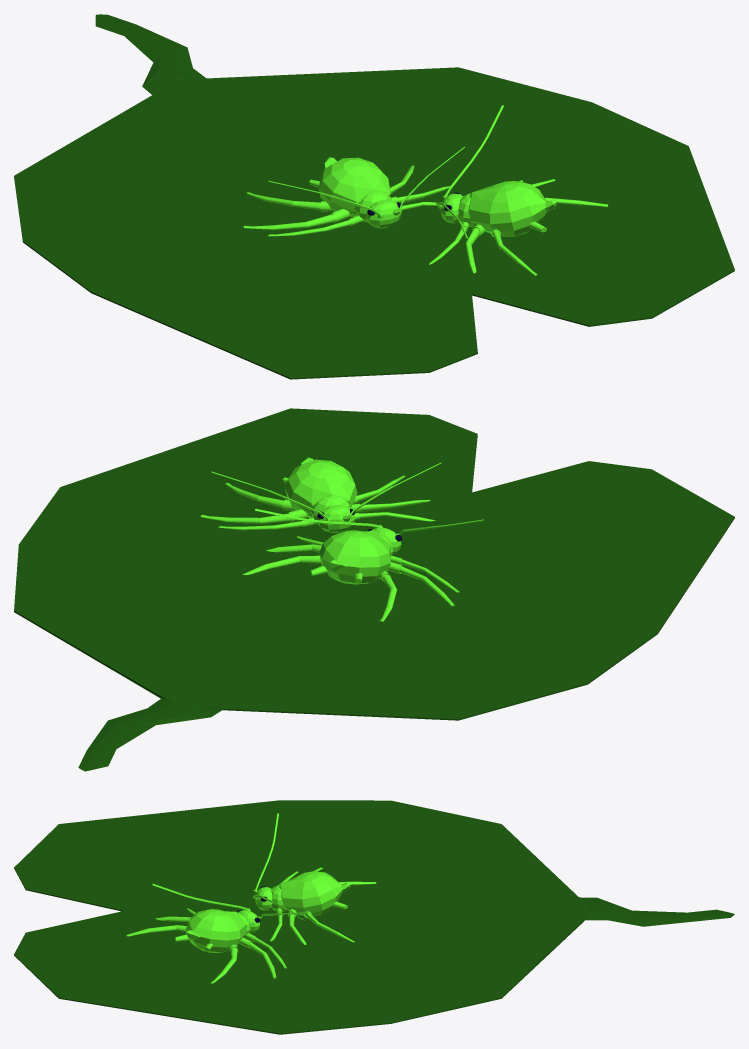
File: hoja-pulgon.glb
The picture shows the model from 3 angles, top to bottom: view 1: azimuth 30°, elevation 25°; view 2: azimuth 150°, elevation 25°; view 3: azimuth 270°, elevation 25°; orthographic projection. The views are drawn at different scales.
Parts seen in each view (by area): view 1: Sphere, Sphere.014, Sphere.001, Cylinder.003, Sphere.003; view 2: Sphere, Sphere.001, Sphere.014, Cylinder.012, Sphere.012; view 3: Sphere, Sphere.001, Sphere.014.
Boxes of the visible parts, bbox=[...] form: Sphere: bbox=[14, 14, 734, 379]; Sphere.014: bbox=[468, 181, 557, 236]; Sphere.001: bbox=[318, 157, 390, 216]; Cylinder.003: bbox=[243, 208, 349, 229]; Sphere.003: bbox=[365, 200, 401, 228]; Sphere: bbox=[14, 408, 734, 771]; Sphere.001: bbox=[319, 530, 390, 584]; Sphere.014: bbox=[284, 457, 357, 518]; Cylinder.012: bbox=[200, 509, 307, 523]; Sphere.012: bbox=[317, 505, 355, 532]; Sphere: bbox=[14, 800, 734, 1034]; Sphere.001: bbox=[279, 871, 350, 916]; Sphere.014: bbox=[185, 909, 246, 952].
Bounding box in the file's own units: 33.27 × 3.92 × 43.43.
